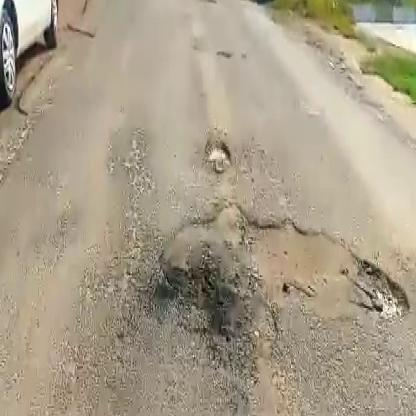pothole: (154, 202, 413, 338), (204, 142, 234, 174)
